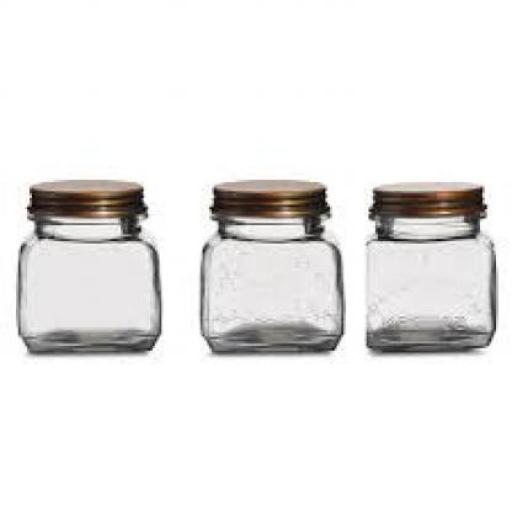glass: (198, 212, 346, 353), (14, 212, 160, 350), (362, 212, 493, 350)
metal: (205, 180, 328, 216), (26, 180, 144, 214), (364, 182, 485, 214)
